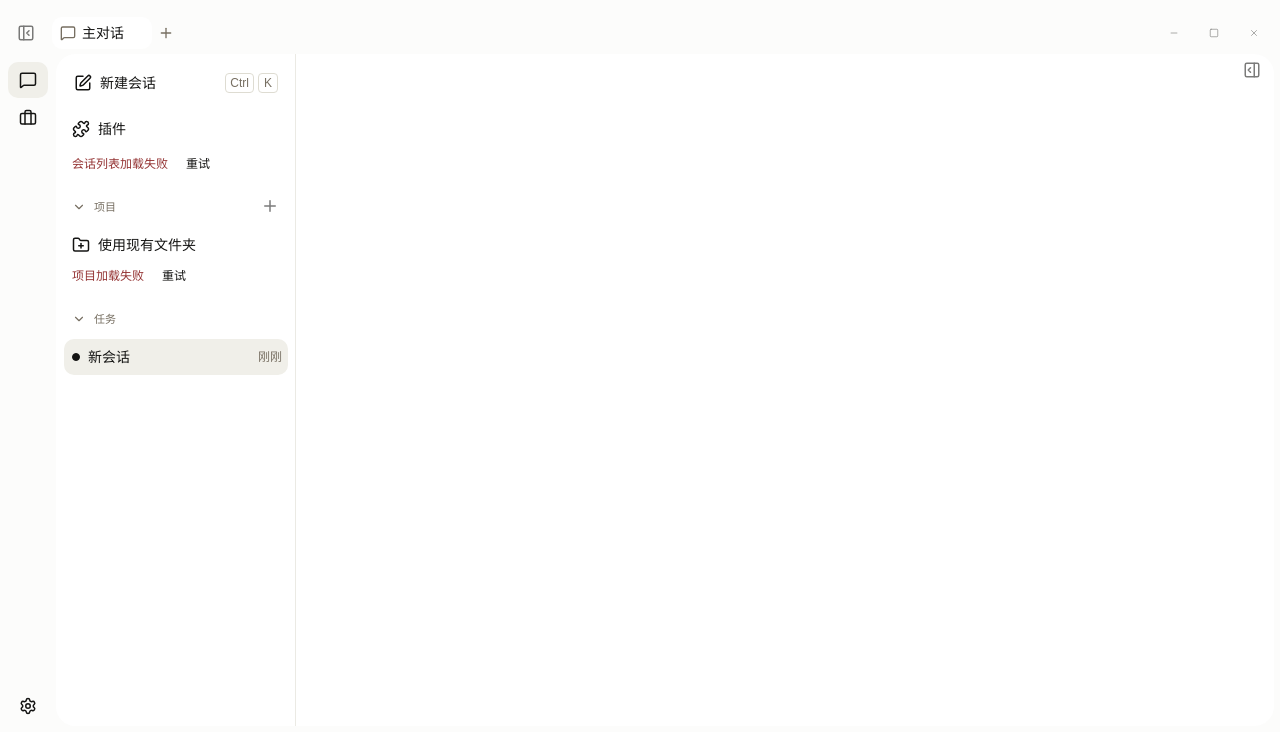
Scenario: AppShell 三栏骨架 › rail 底部设置是唯一入口：可点并进入 /settings（侧栏不出现第二个）
Click the button with test id "primary-nav-settings" at {"x": 28, "y": 706}, box left=8, top=688, right=48, bottom=724
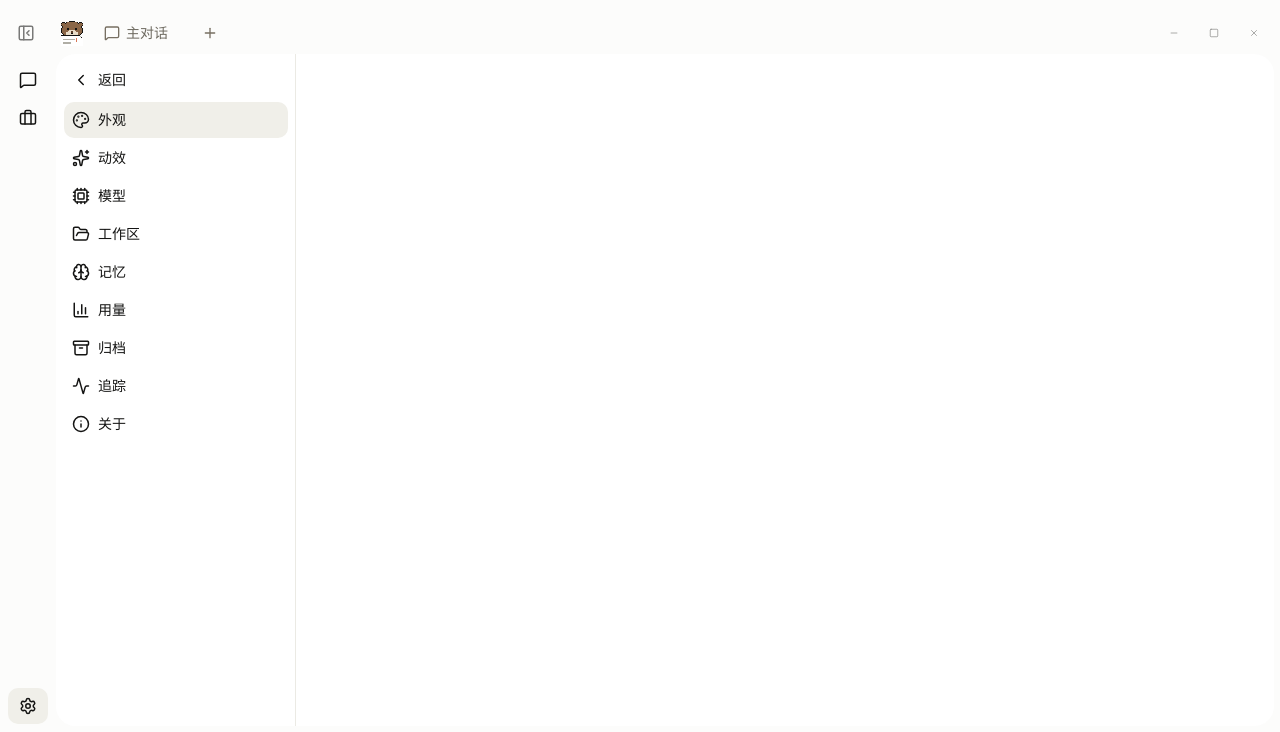
Expected: the element with test id "settings-nav" is shown, left=64, top=62, right=288, bottom=442
